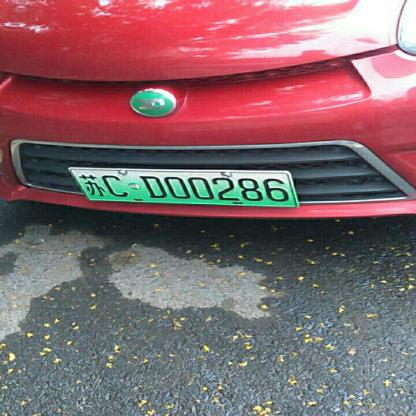lp: (68, 168, 298, 206)
